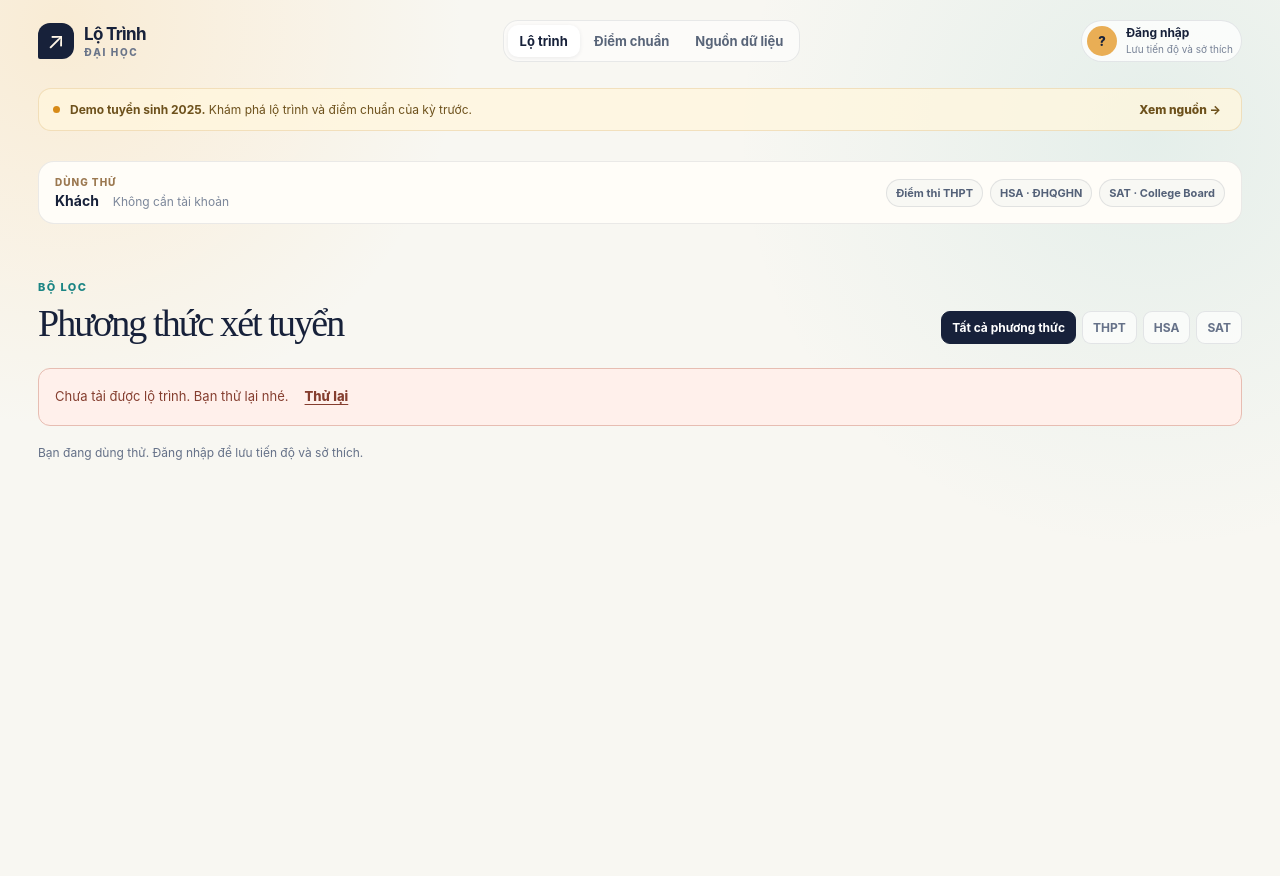
admissions demo flows › keeps available views usable after a loading failure and lets the user retry
expect the message "Chưa tải được lộ trình. Bạn thử lại nhé. Thử lại" is shown: met, box [38,368,1242,426]
Click the button "Điểm chuẩn". click: (632, 41)
box: [582,25,681,57]
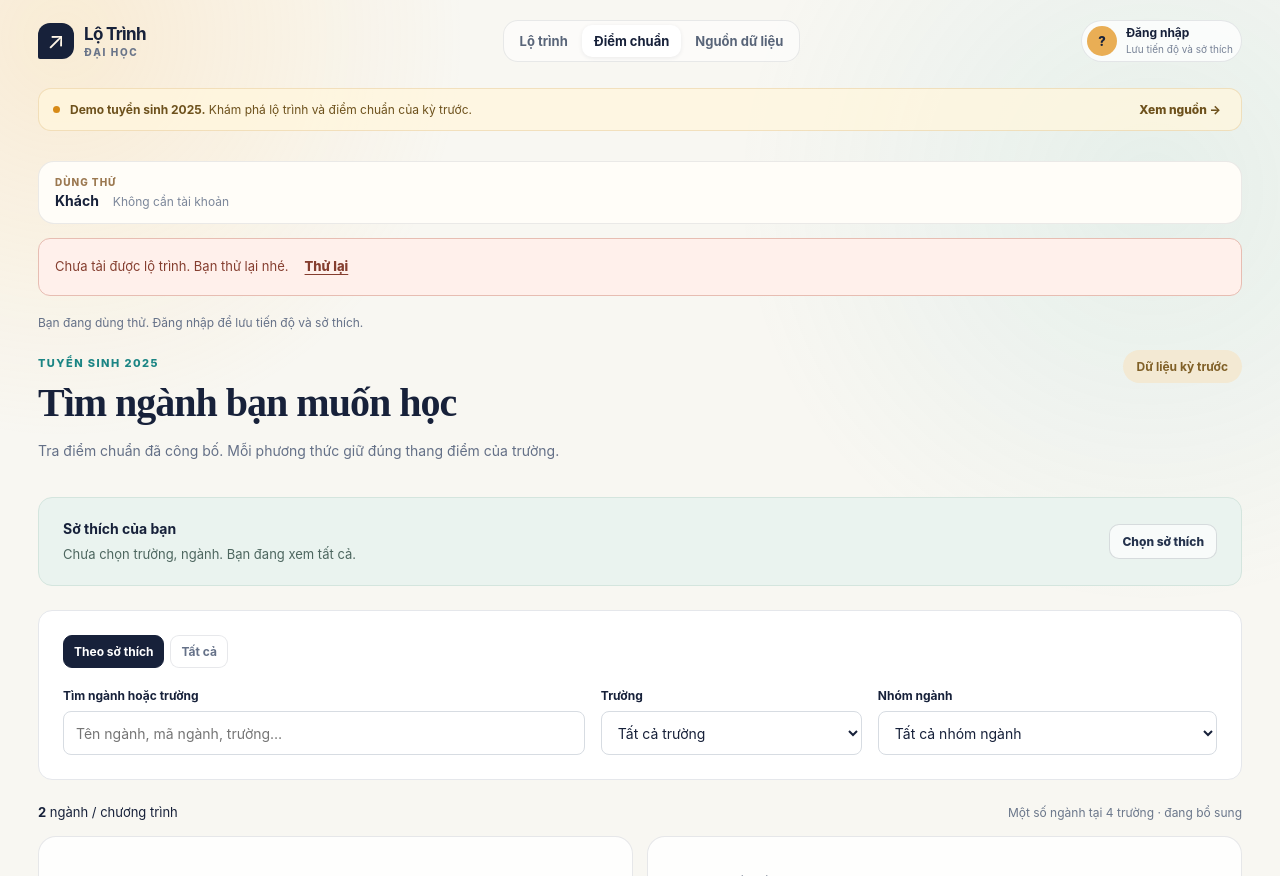
Click the button "Nguồn dữ liệu". click: (739, 41)
box: [683,25,795,57]
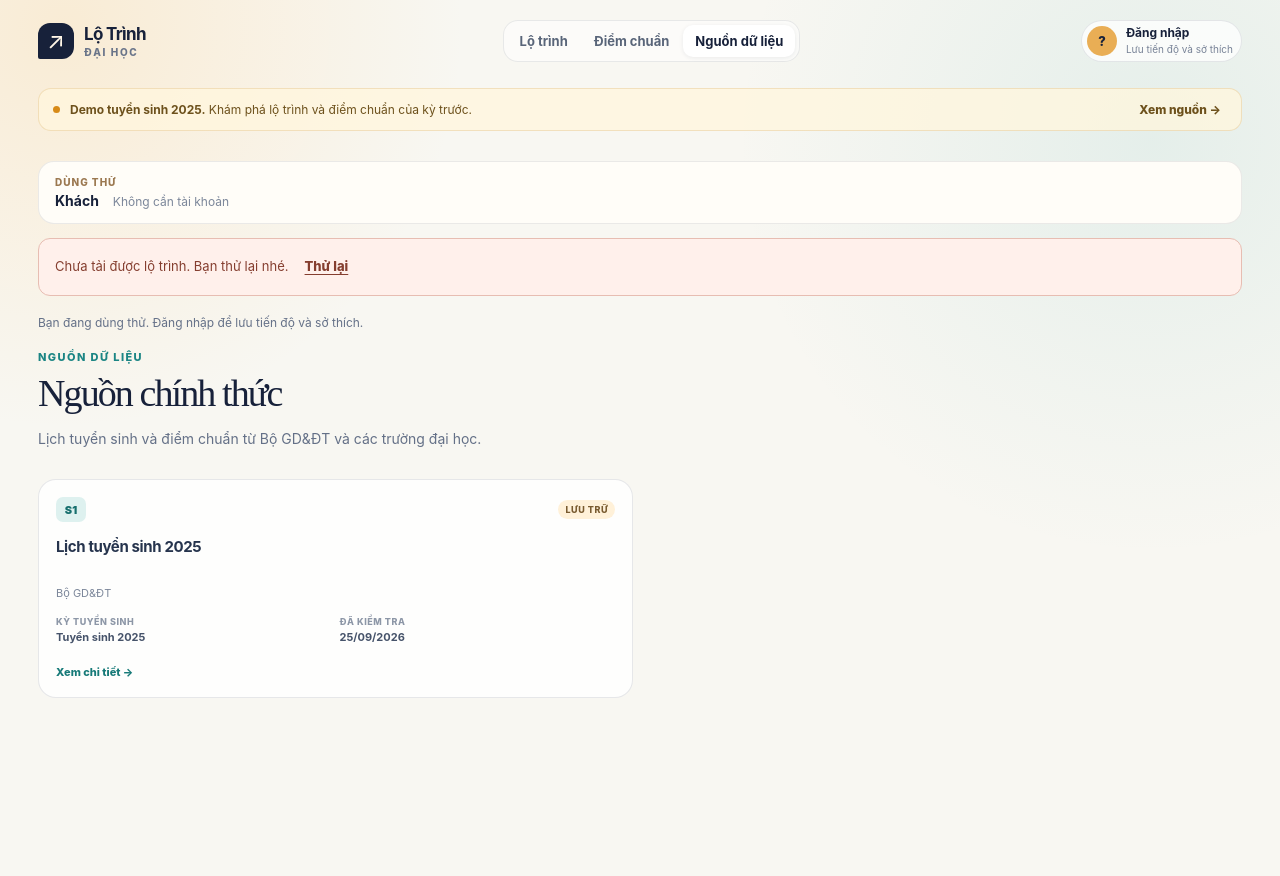
expect the heading "Lịch tuyển sinh 2025" is shown: met, box [56,537,201,556]
Click the button "Thử lại". click: (326, 267)
box: [305,251,348,283]
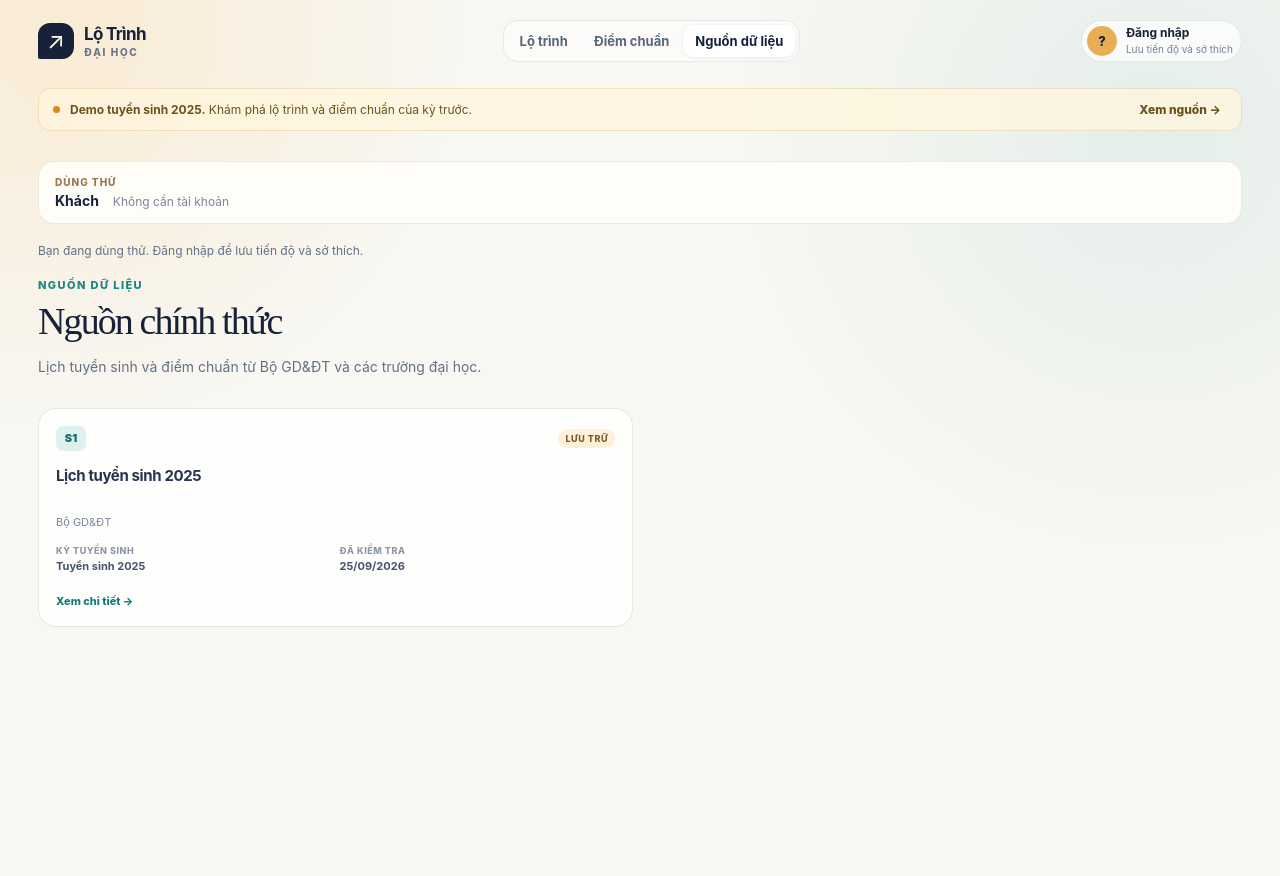
expect the message "Chưa tải được lộ trình. Bạn thử lại nhé. Thử lại" is gone: met
Click the button "Lộ trình". click: (544, 41)
box: [508,25,580,57]
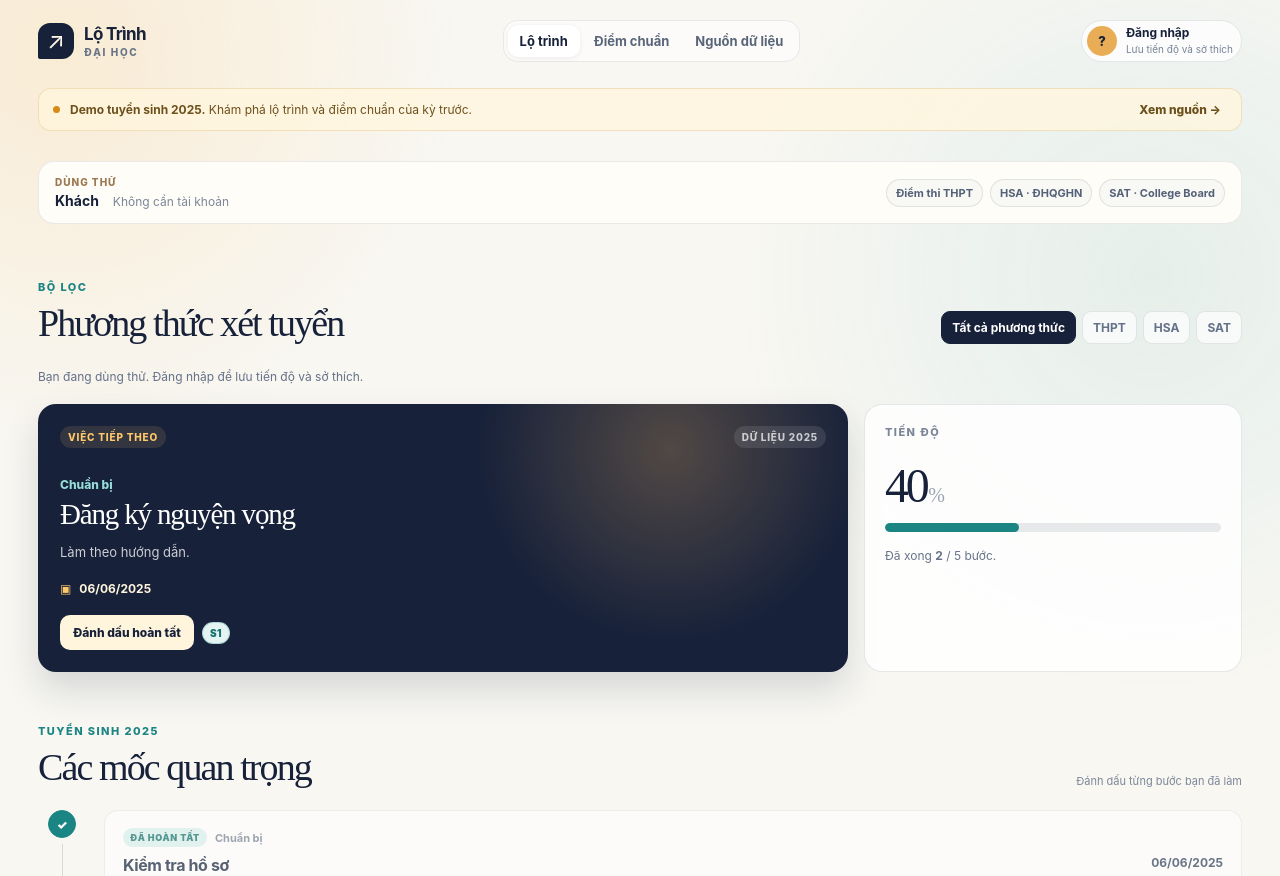
expect the number of elements with class "timeline-item" is 5: met
